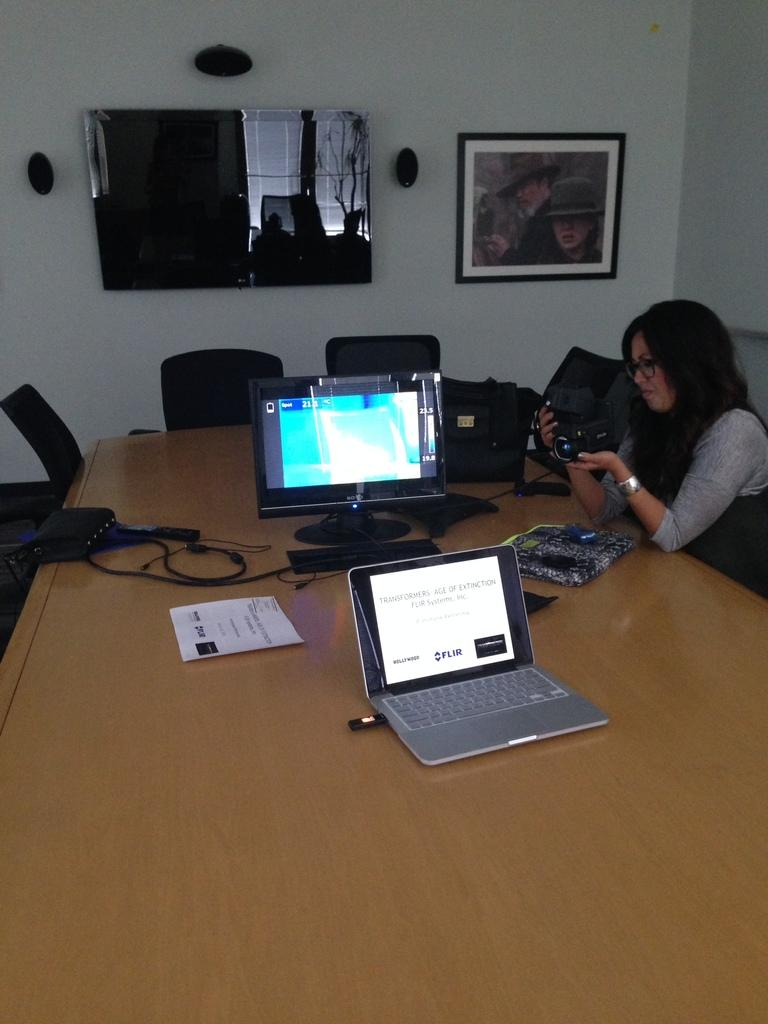Computer-keyboard: (385, 665, 567, 733), (285, 541, 443, 576)
Computer-monitor: (252, 349, 462, 529)
Laptop: (353, 529, 611, 762)
